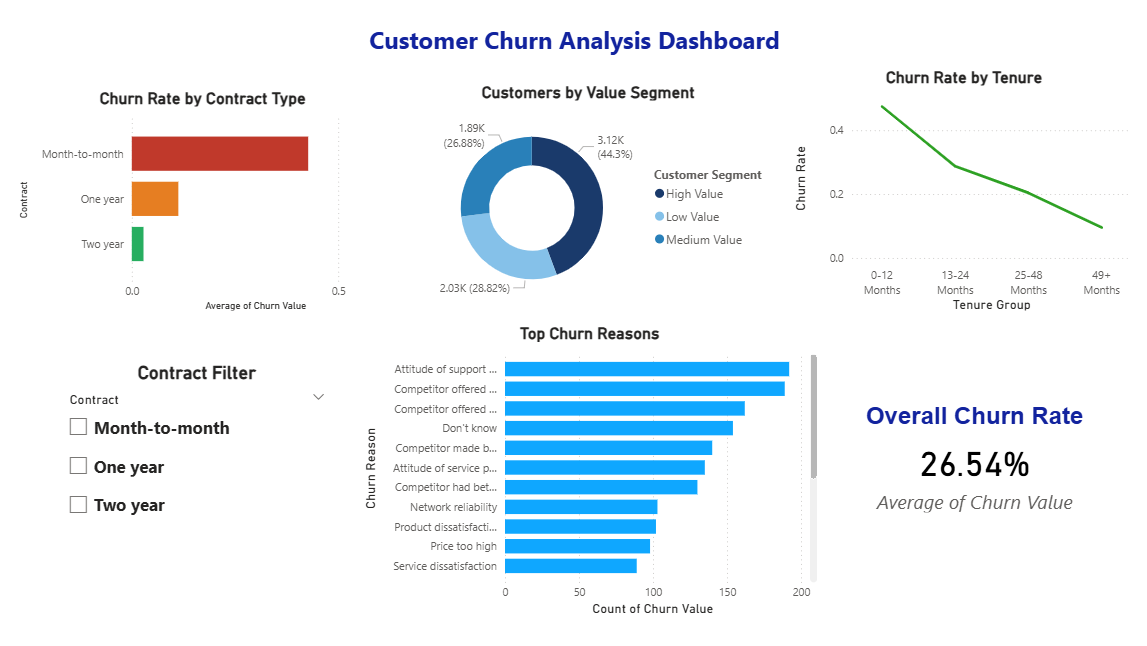

The page's visual inventory and layout, read from the dashboard file:
{"tool":"powerbi","page":{"name":"Customer Churn Analysis Dashboard","canvas":[1280,720],"ordinal":0},"visuals":[{"type":"card","title":"Overall Churn Rate","fields":{"Values":["Avg(Telco_Churn.Churn Value)"]},"box":[948.3,446.7,275,150],"z":0},{"type":"clusteredBarChart","title":"Churn Rate by Contract Type","fields":{"Category":["Telco_Churn.Contract"],"Y":["Avg(Telco_Churn.Churn Value)"]},"box":[18.3,98.3,418.3,251.7],"z":1000},{"type":"lineChart","title":"Churn Rate by Tenure","fields":{"Y":["Avg(Telco_Churn.Churn Value)"],"Category":["Telco_Churn.Tenure Group"]},"box":[877.6,74.5,390.2,275.3],"z":2000},{"type":"clusteredBarChart","title":"Top Churn Reasons","fields":{"Category":["Telco_Churn.Churn Reason"],"Y":["CountNonNull(Telco_Churn.Churn Value)"]},"box":[399.9,359.5,514.9,328.7],"z":3000},{"type":"donutChart","title":"Customers by Value Segment","fields":{"Category":["Telco_Churn.Customer Segment"],"Y":["CountNonNull(Telco_Churn.Churn Value)"]},"box":[451.7,91.7,408.3,258.3],"z":4000},{"type":"slicer","title":"Contract Filter","fields":{"Values":["Telco_Churn.Contract"]},"box":[51.8,388.6,338.4,229.9],"z":5000},{"type":"textbox","box":[404.8,19.4,471.2,55.1],"z":6000}]}

Visuals, with their boxes in screenshot pixels (x1, y1, x2, y2), scaled from the page's 1280x720 canvas onto the 1147x646 screenshot:
"Overall Churn Rate" card: box=[850, 401, 1096, 535]
"Churn Rate by Contract Type" clusteredBarChart: box=[16, 88, 391, 314]
"Churn Rate by Tenure" lineChart: box=[786, 67, 1136, 314]
"Top Churn Reasons" clusteredBarChart: box=[358, 323, 820, 617]
"Customers by Value Segment" donutChart: box=[405, 82, 771, 314]
"Contract Filter" slicer: box=[46, 349, 350, 555]
textbox: box=[363, 17, 785, 67]
